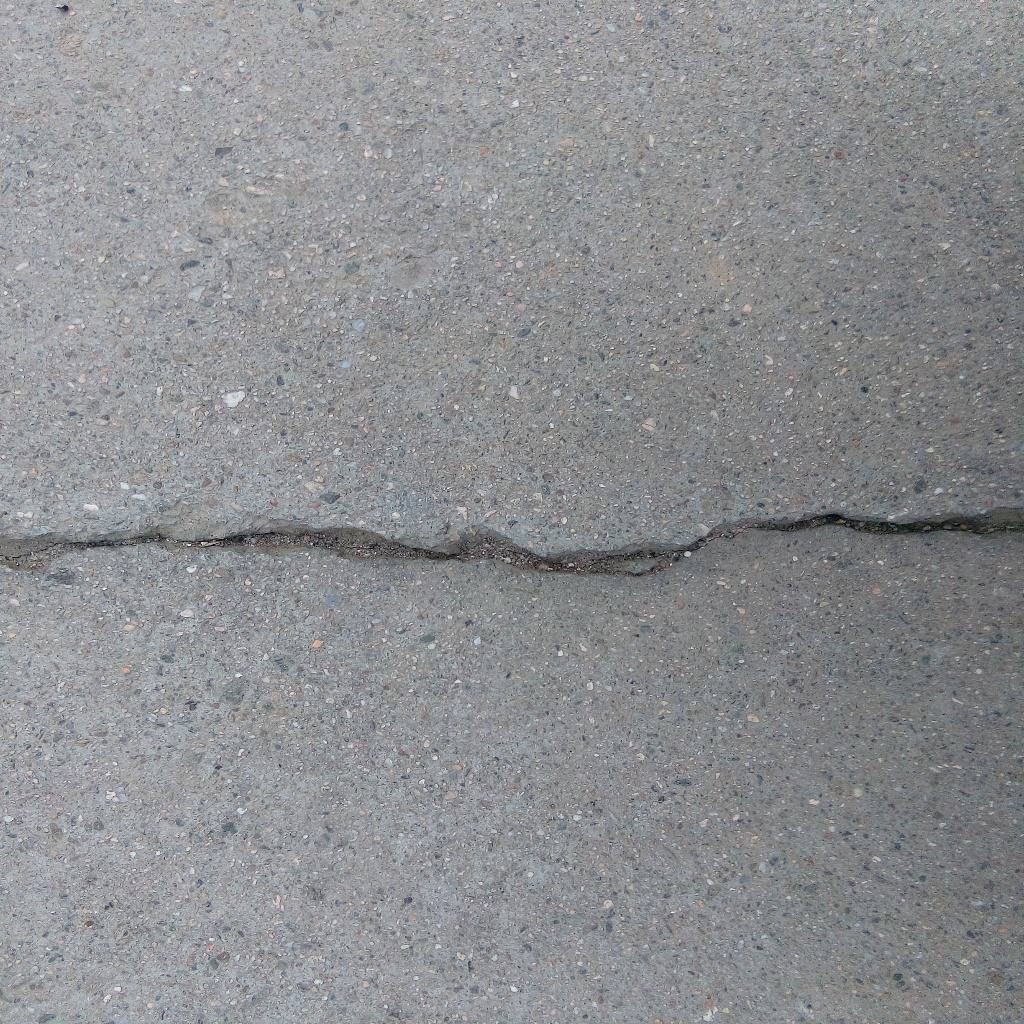Crack: (1, 510, 1024, 581)
